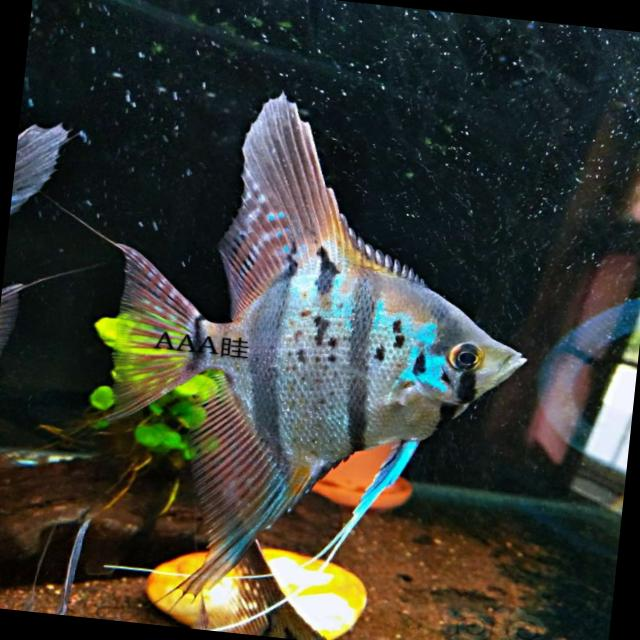AngelFish: (97, 76, 549, 634)
